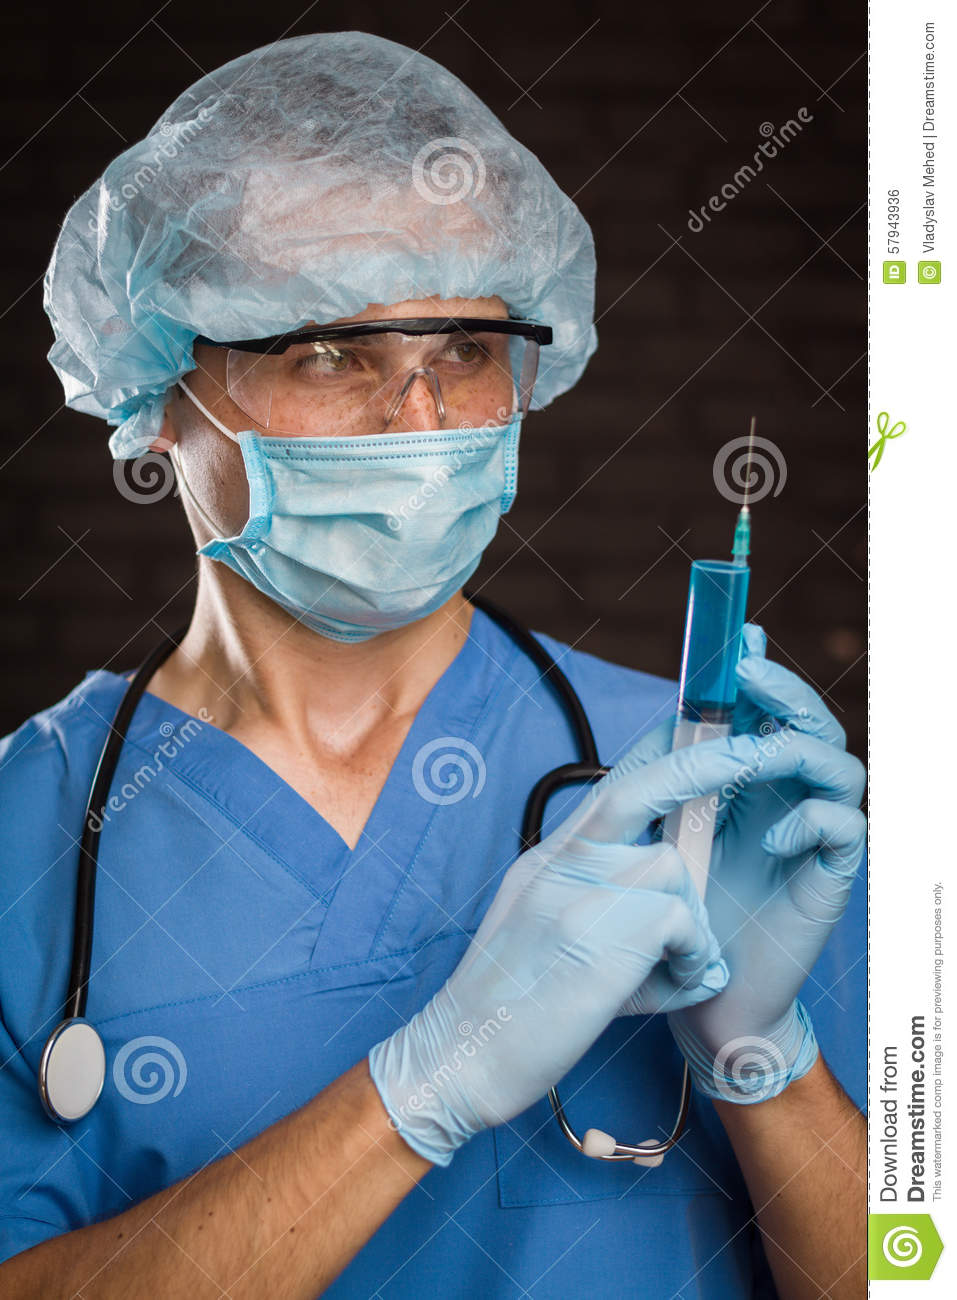mask: (208, 429, 523, 641)
